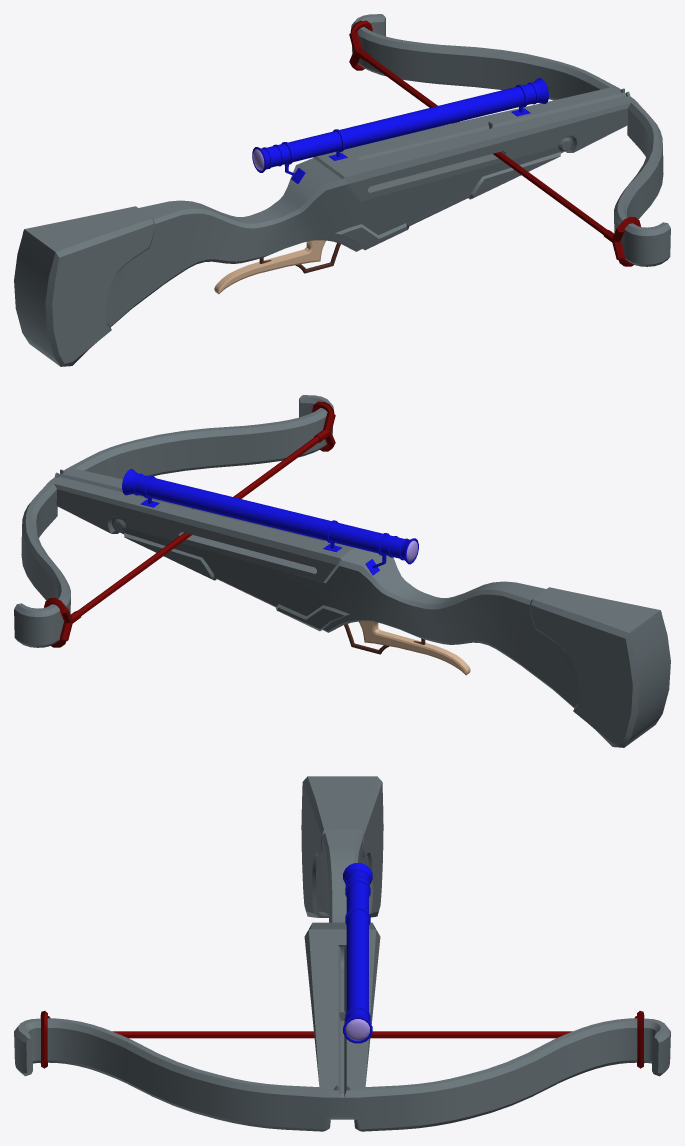
File: CBPainter.fbx
The picture shows the model from 3 angles, top to bottom: view 1: azimuth 30°, elevation 25°; view 2: azimuth 150°, elevation 25°; view 3: azimuth 270°, elevation 25°; orthographic projection. The views are drawn at different scales.
Parts seen in each view (by area): view 1: Crossbow, Scope, Rope, Lever; view 2: Crossbow, Scope, Rope, Lever; view 3: Crossbow, Scope, Rope.
Part boxes in pixels (x1,y1,x2,y2): Crossbow: (14, 14, 670, 366); Scope: (252, 78, 548, 183); Rope: (349, 20, 640, 266); Lever: (214, 240, 325, 294); Crossbow: (14, 395, 670, 747); Scope: (122, 469, 418, 575); Rope: (44, 401, 335, 647); Lever: (359, 621, 470, 675); Crossbow: (14, 776, 670, 1131); Scope: (343, 863, 372, 1043); Rope: (40, 1011, 644, 1068).
Bounding box in the file's own units: 123 × 29.41 × 105.
